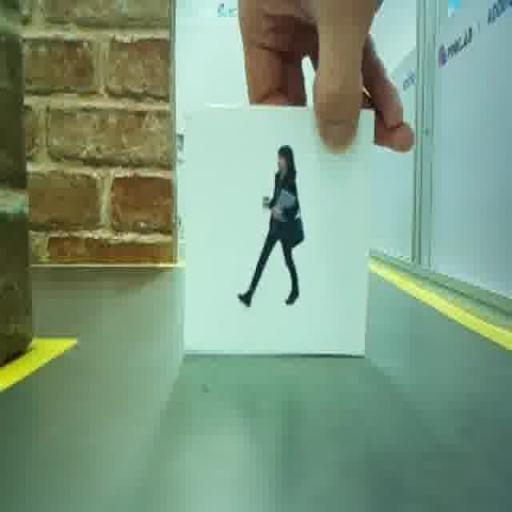human: (237, 145, 304, 306)
